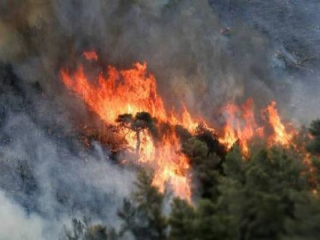fire: (72, 63, 199, 200), (195, 102, 308, 157)
smoke: (4, 127, 140, 233)
